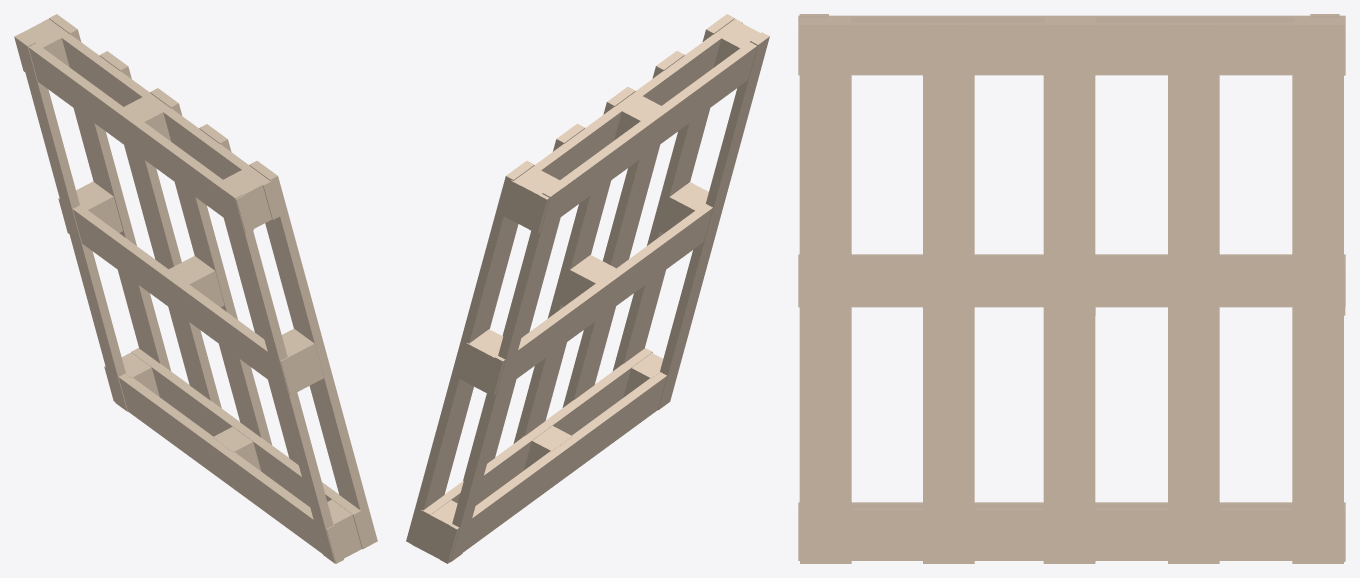
The model's file is Tutorial_pallet.fbx.
3 renders of one model, left to right at view 1: azimuth 30°, elevation 25°; view 2: azimuth 150°, elevation 25°; view 3: azimuth 270°, elevation 25°, orthographic. The views are drawn at different scales.
Visible parts, largest first — view 1: plank6, plank12, plank5, plank4, plank10, plank11, plank8, plank9, plank2, plank3, plank, plank1 (+9 smaller); view 2: plank6, plank12, plank5, plank3, plank11, plank10, plank8, plank1, plank9, plank4, plank, plank2 (+9 smaller); view 3: plank, plank4, plank3, plank2, plank1, plank8, plank12, plank9, plank6, plank5.
Part boxes in pixels (<box>): plank6: <box>14,33,253,233</box>; plank12: <box>58,198,298,395</box>; plank5: <box>104,366,343,563</box>; plank4: <box>249,161,377,544</box>; plank10: <box>223,185,335,563</box>; plank11: <box>16,33,127,411</box>; plank8: <box>41,19,280,219</box>; plank9: <box>131,348,370,548</box>; plank2: <box>99,51,221,408</box>; plank3: <box>49,14,171,371</box>; plank: <box>150,88,271,444</box>; plank1: <box>199,124,298,464</box>; plank6: <box>530,41,756,233</box>; plank12: <box>485,203,712,395</box>; plank5: <box>440,372,666,563</box>; plank3: <box>406,160,534,543</box>; plank11: <box>450,184,562,562</box>; plank10: <box>658,32,769,410</box>; plank8: <box>503,18,742,219</box>; plank1: <box>562,51,684,407</box>; plank9: <box>413,348,652,548</box>; plank4: <box>613,14,734,370</box>; plank: <box>513,87,635,443</box>; plank2: <box>463,123,584,480</box>; plank: <box>1043,23,1095,563</box>; plank4: <box>800,23,851,563</box>; plank3: <box>1292,23,1343,563</box>; plank2: <box>1168,23,1219,563</box>; plank1: <box>923,23,974,563</box>; plank8: <box>798,22,1345,75</box>; plank12: <box>798,254,1345,307</box>; plank9: <box>798,508,1345,560</box>; plank6: <box>798,15,1345,22</box>; plank5: <box>798,502,1345,508</box>.
Size of the model in its own units: 2.32 by 6.23 by 6.26.
1 material, 1 textured.
